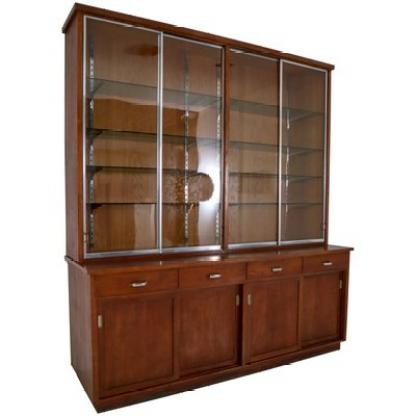Cupboard: (54, 0, 356, 416)
